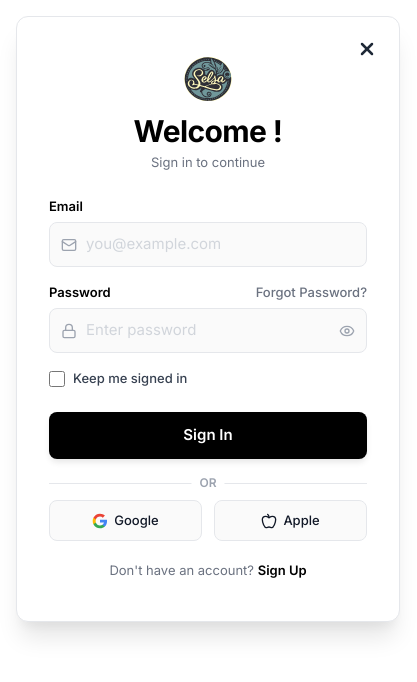
Scenario: LoginForm › form submission › shows error message when signIn returns an error
Type "user@example.com" into the field with placeholder "you@example.com" at (208, 245), box x1=49 y1=222 x2=367 y2=267
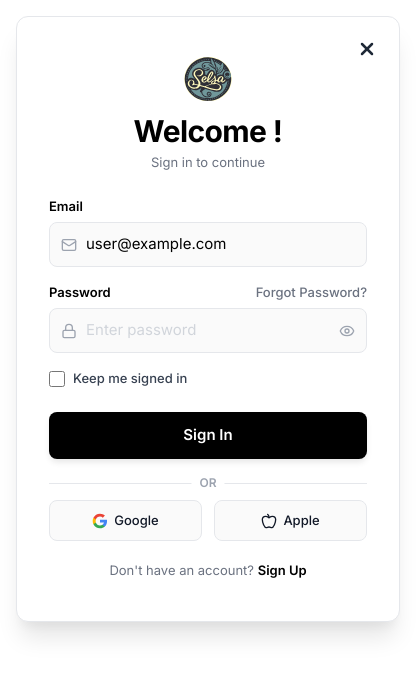
Type "wrongpass" into the password field with placeholder "Enter password" at (208, 331), box x1=49 y1=308 x2=367 y2=353
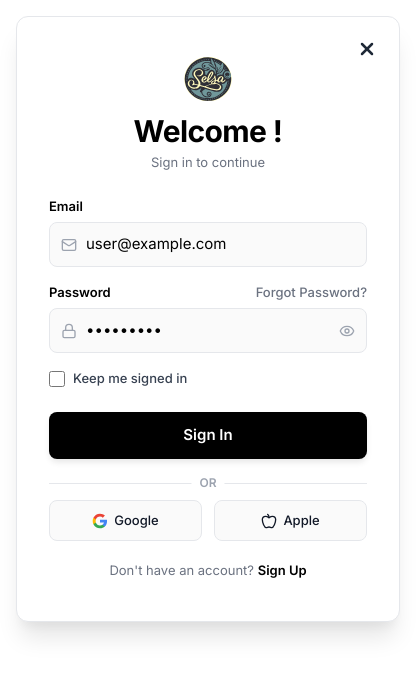
Click the button "Sign In" at (208, 436), box x1=49 y1=412 x2=367 y2=459
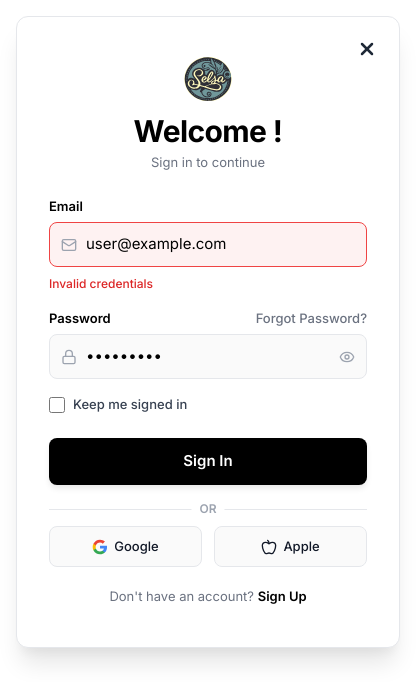
Expected: the text "Invalid credentials" is shown, x1=49 y1=276 x2=153 y2=291
